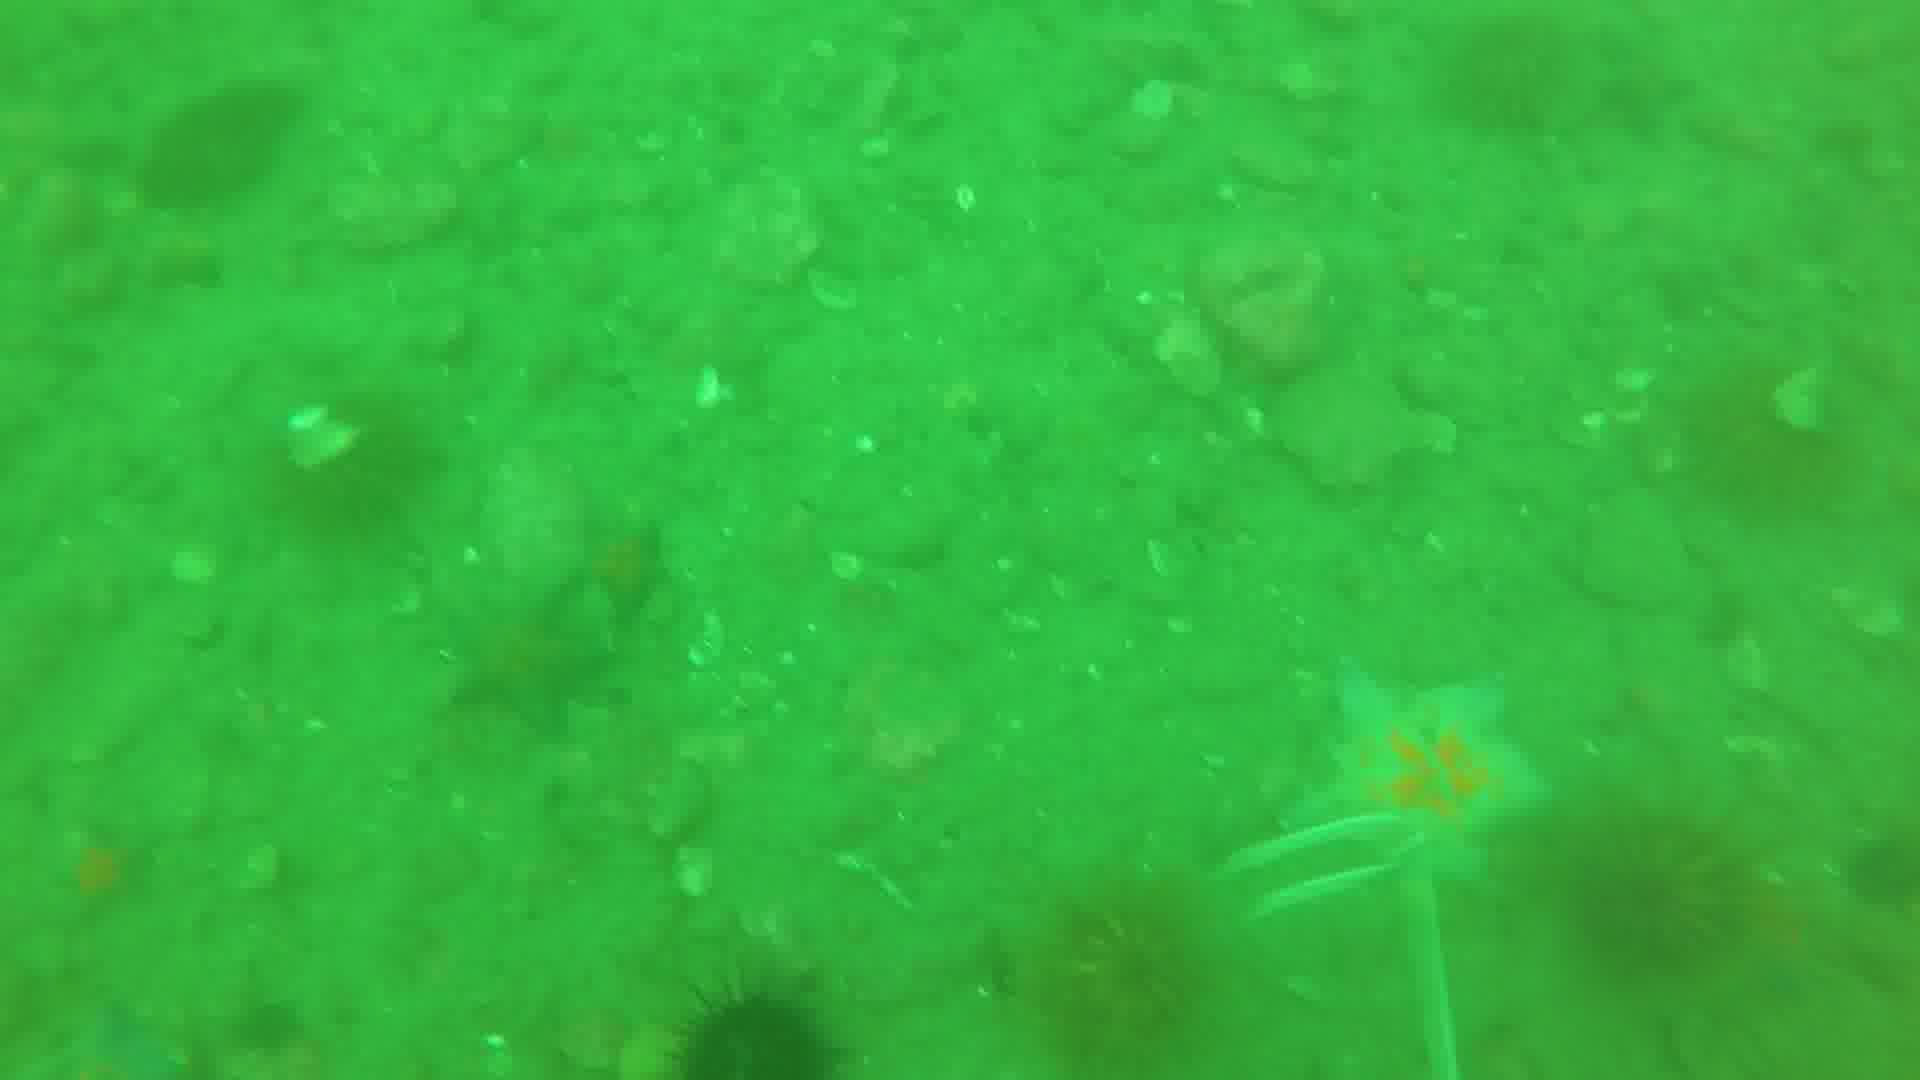echinus: (1577, 782, 1758, 984), (269, 388, 436, 530), (1687, 369, 1826, 531), (662, 972, 835, 1080), (132, 86, 280, 193), (1083, 891, 1180, 1031)
starfish: (1294, 676, 1539, 880), (413, 567, 596, 717), (1156, 316, 1236, 401), (669, 848, 716, 905), (808, 268, 869, 307), (1121, 88, 1180, 119)
